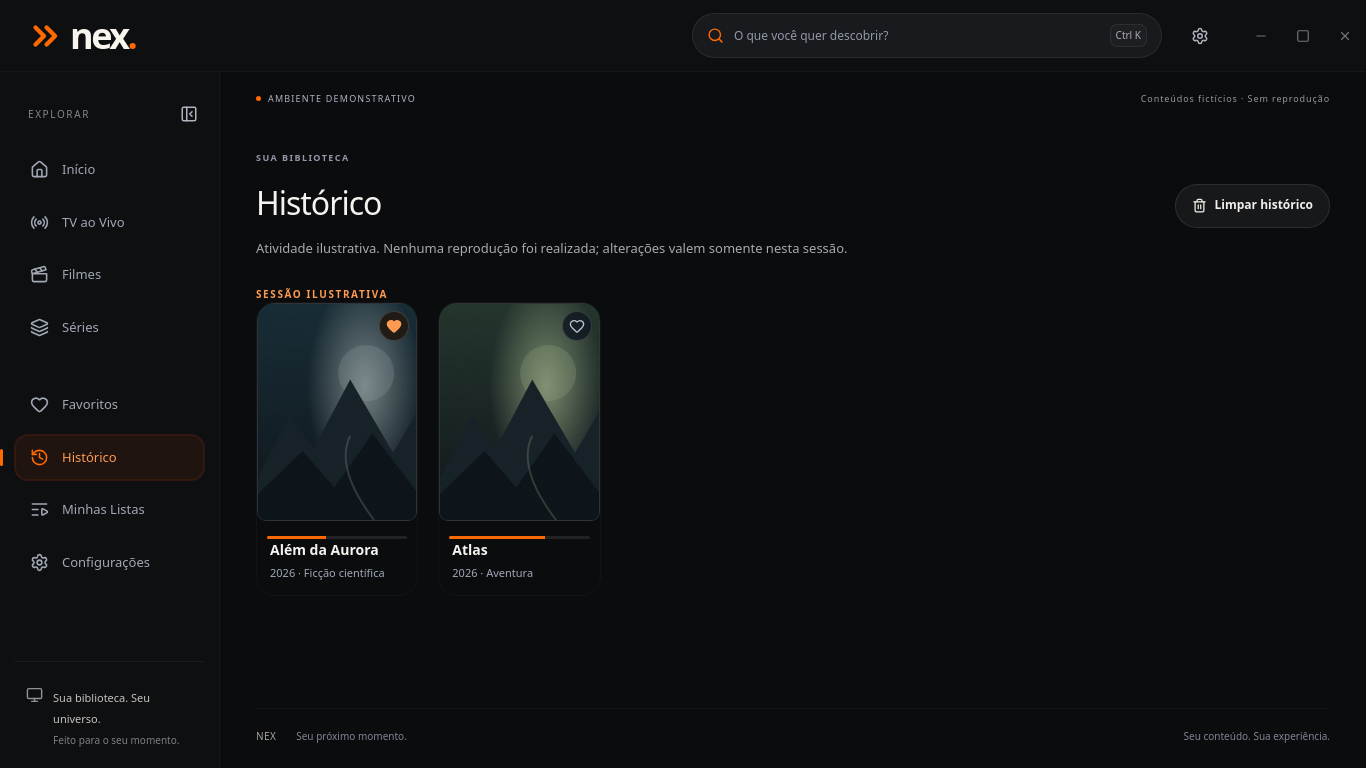
Fase 2 › confirma limpeza de histórico sem persistir alteração
Click the button "Limpar histórico" at (1252, 206), box [1174,184,1330,228]
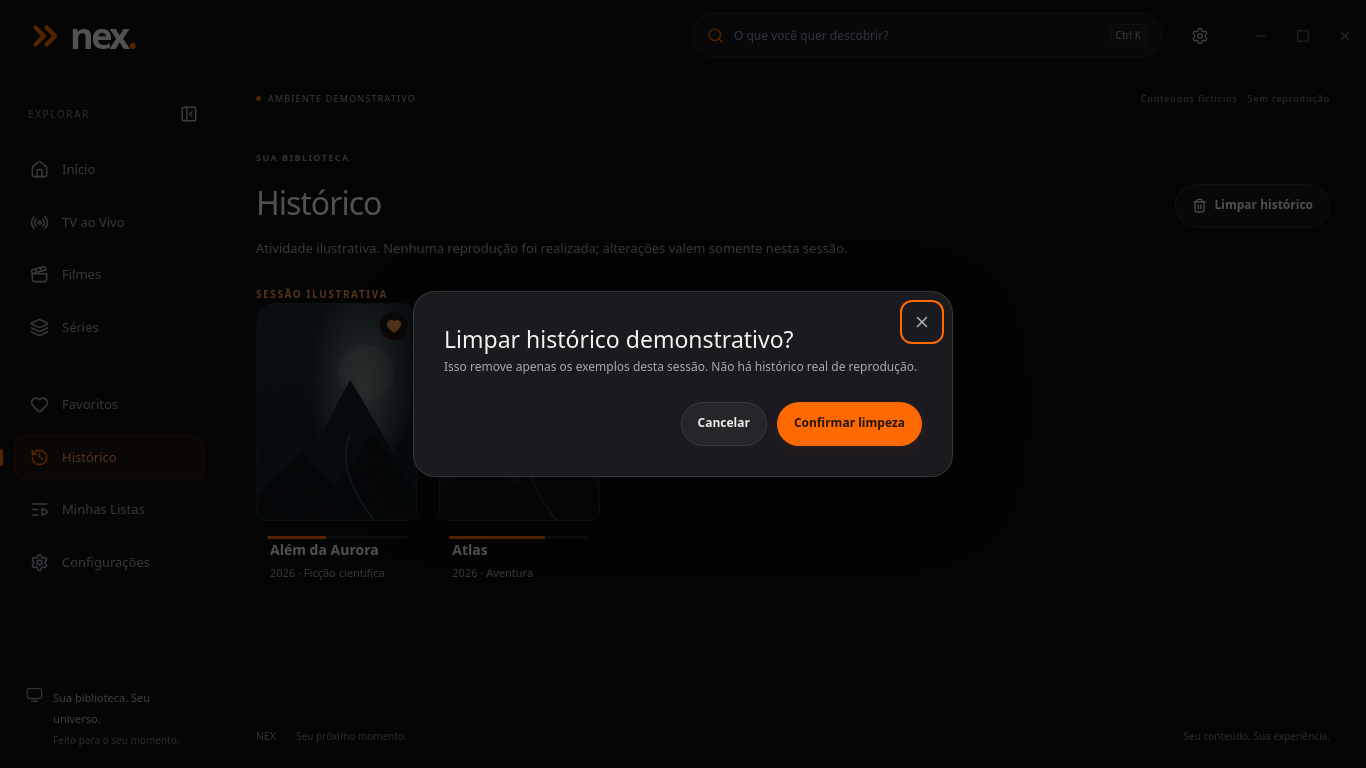
Click the button "Cancelar" at (724, 424), box [680,402,767,446]
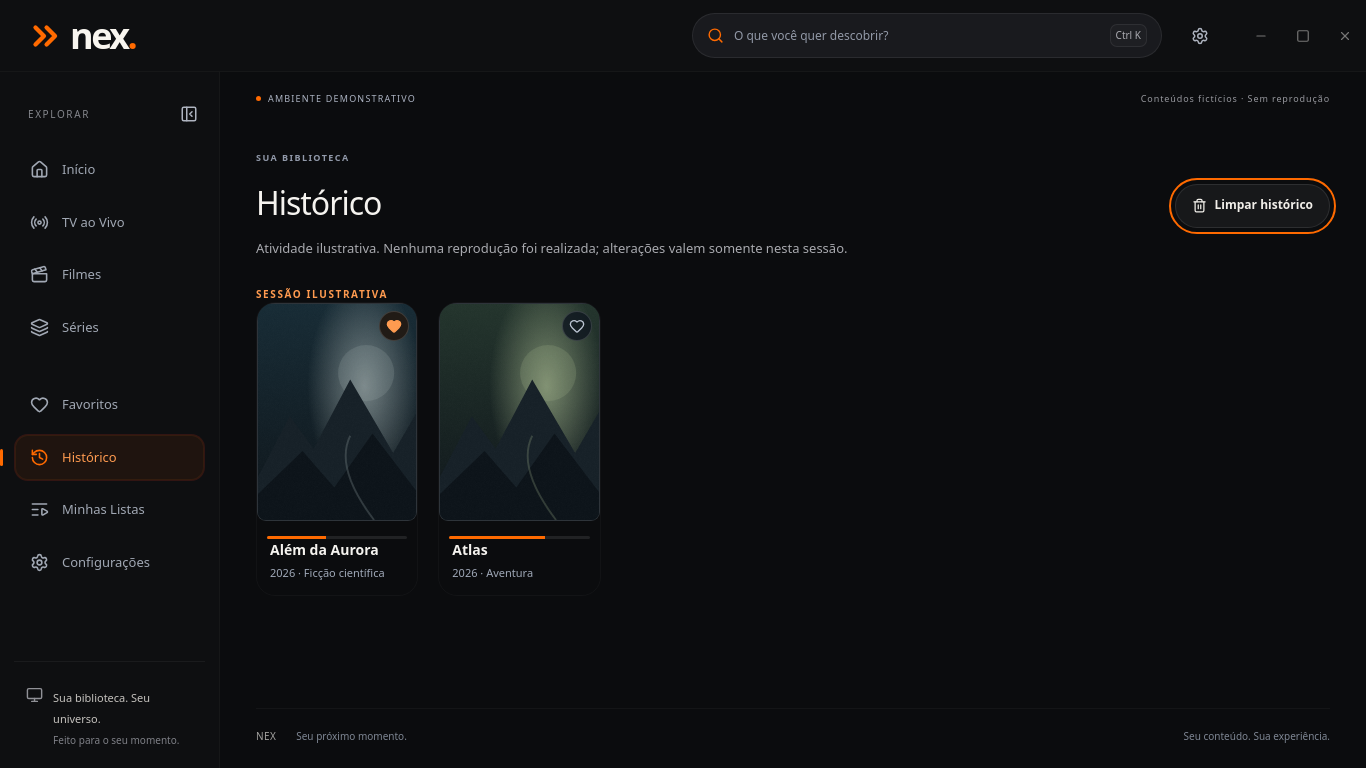
Click the button "Limpar histórico" at (1252, 206), box [1174,184,1330,228]
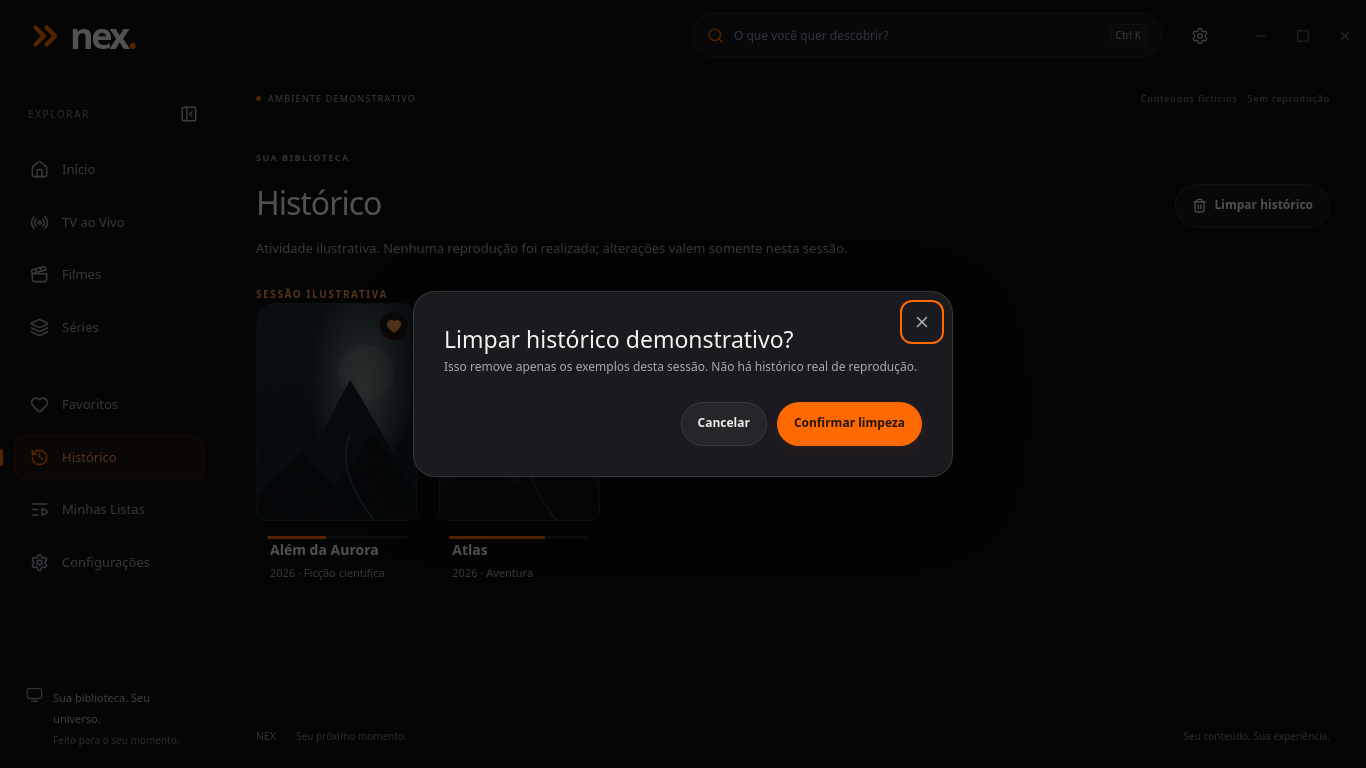
Click the button "Confirmar limpeza" at (849, 424), box [777,402,922,446]
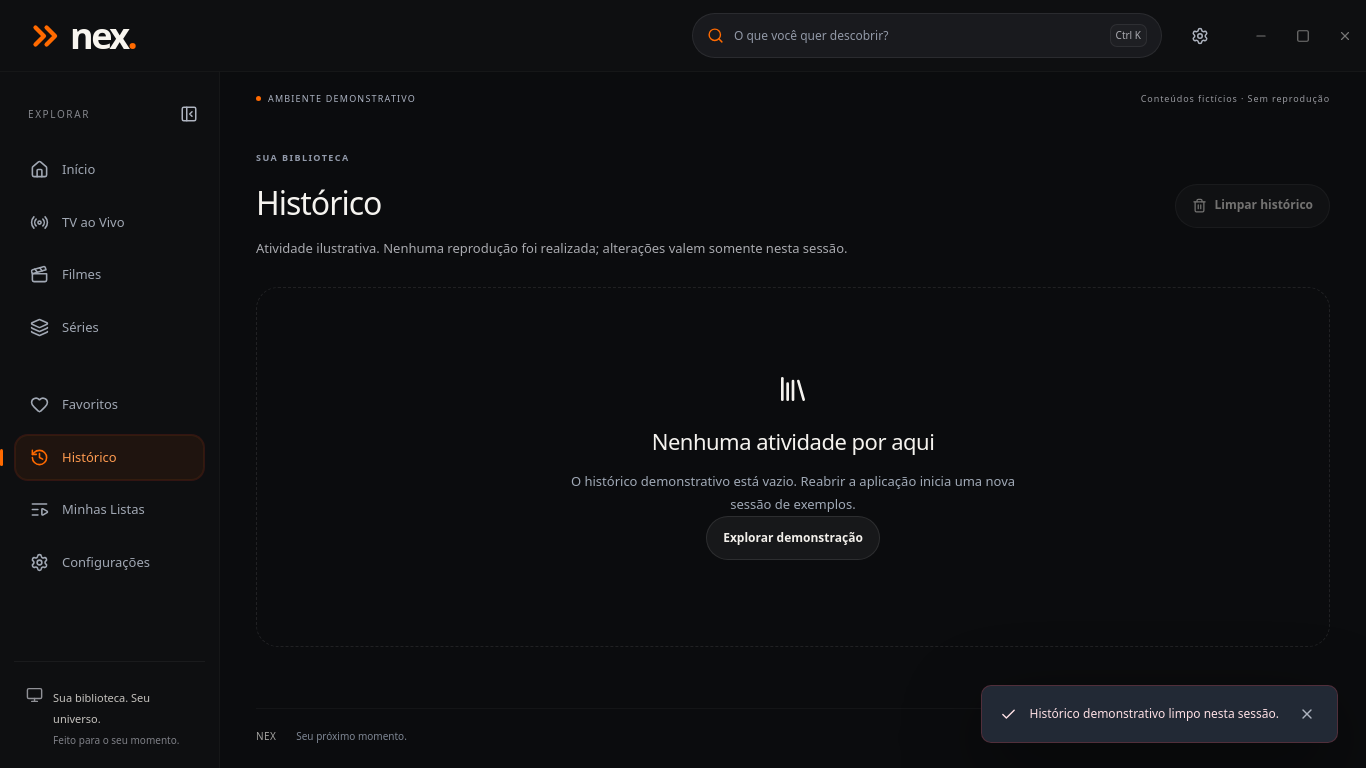
Check: the heading "Nenhuma atividade por aqui" is shown, box [652,425,934,458]
